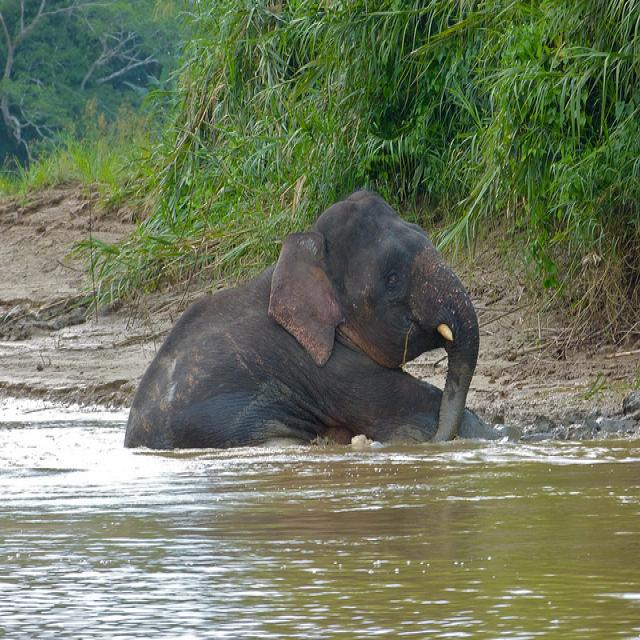Elephant: (123, 188, 480, 451)
